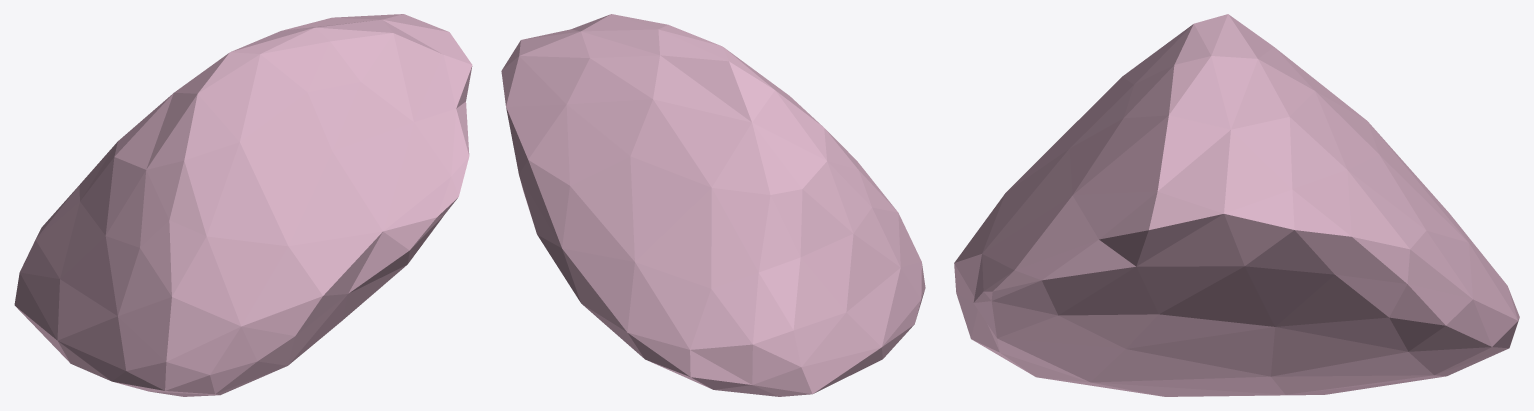
The picture shows the model from 3 angles, left to right: view 1: azimuth 30°, elevation 25°; view 2: azimuth 150°, elevation 25°; view 3: azimuth 270°, elevation 25°; orthographic projection. The views are drawn at different scales.
Parts seen in each view (by area): view 1: 207.obj; view 2: 207.obj; view 3: 207.obj.
Boxes of the visible parts, x1,y1,x2,y2 form: 207.obj: (14,14,472,396); 207.obj: (501,14,925,396); 207.obj: (954,14,1519,396).
Size of the model in its own units: 513 by 379 by 454.
